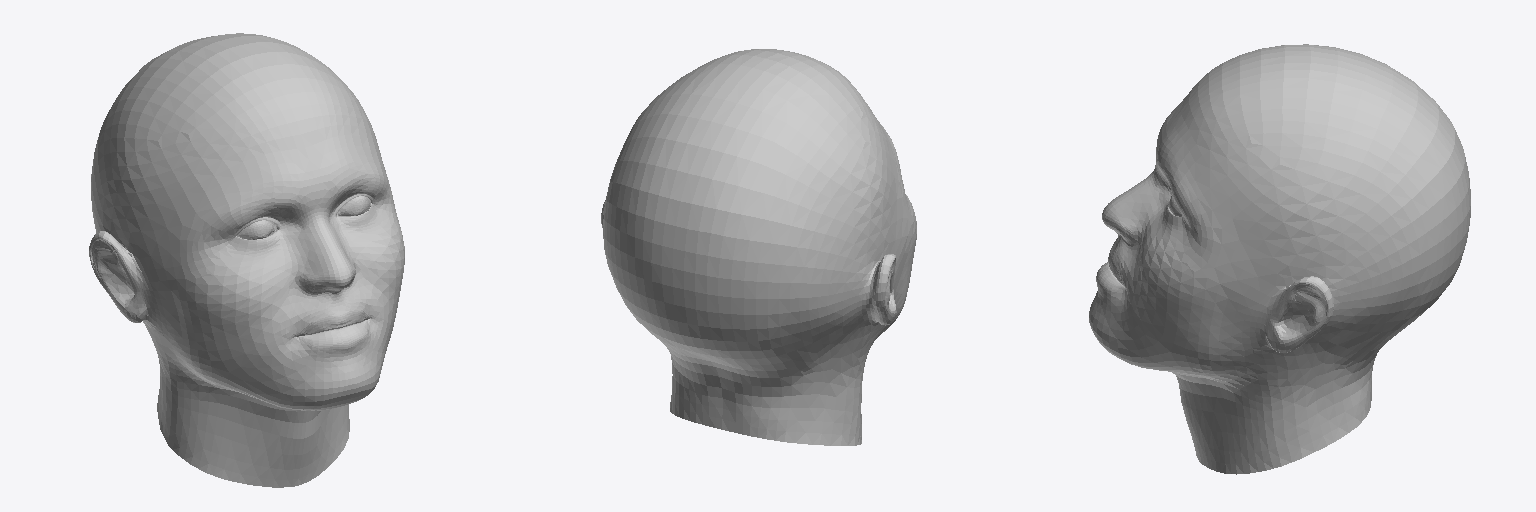
3 views of the same model, side by side, from view 1: azimuth 30°, elevation 25°; view 2: azimuth 150°, elevation 25°; view 3: azimuth 270°, elevation 25° (orthographic).
Visible parts, largest first — view 1: FaceGen; view 2: FaceGen; view 3: FaceGen.
Boxes of the visible parts, x1,y1,x2,y2 form: FaceGen: [89, 33, 404, 487]; FaceGen: [601, 49, 916, 445]; FaceGen: [1089, 44, 1470, 474].
Size of the model in its own units: 210 by 280 by 243.